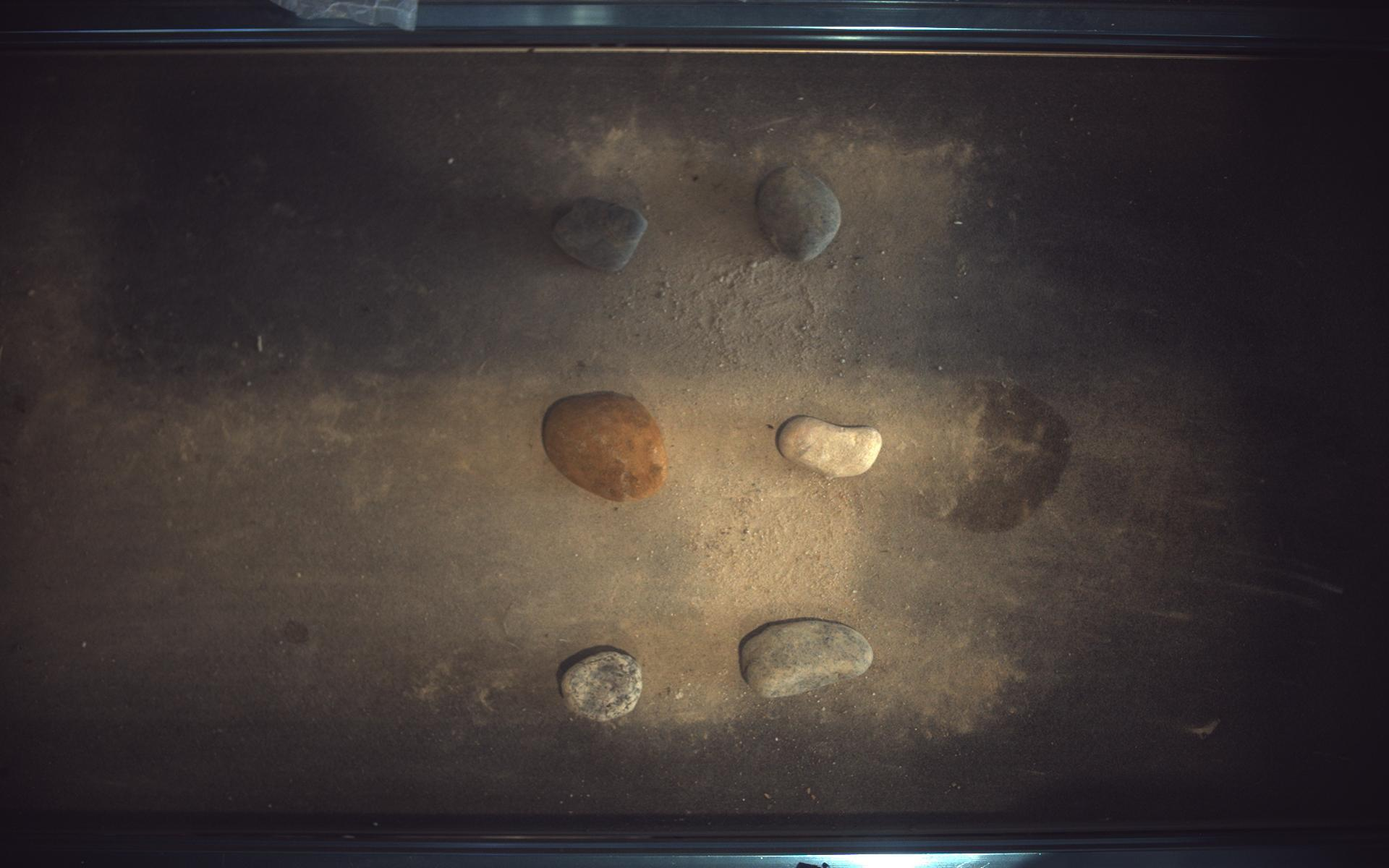stone: (543, 391, 668, 502), (741, 618, 875, 699), (757, 165, 842, 260), (553, 197, 647, 271), (778, 416, 884, 477), (558, 647, 642, 723)
